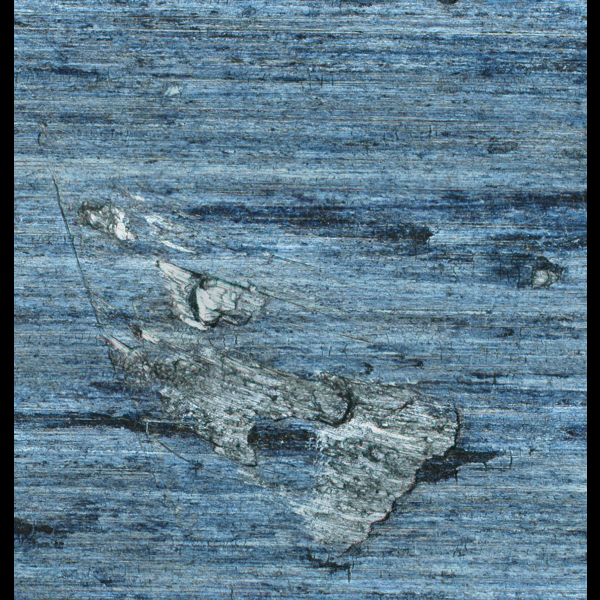d: (74, 185, 500, 577), (502, 249, 566, 292)
